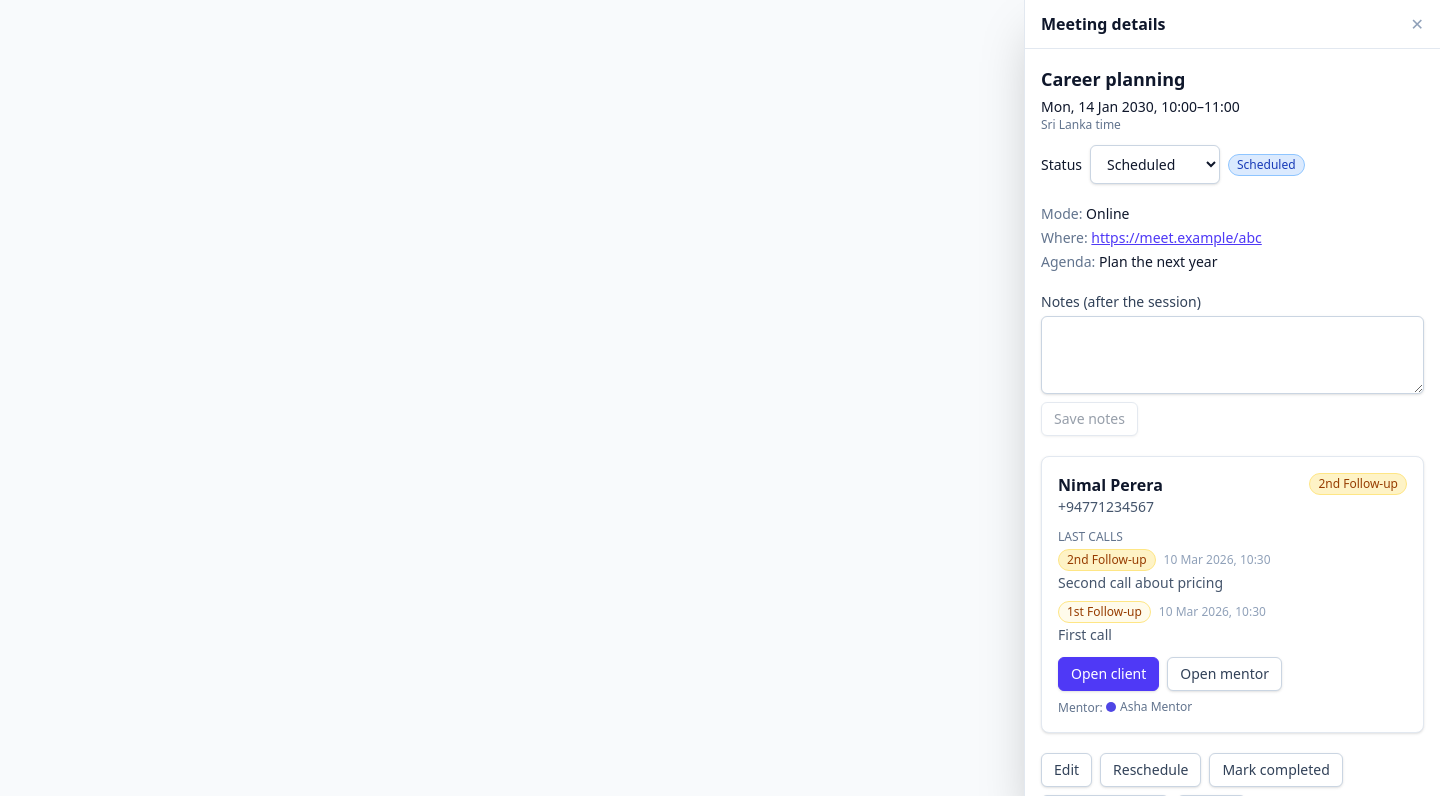
Test: Meeting details panel › Edit and Reschedule open the meeting form with the right title
The image size is (1440, 796).
Click the button "Edit" at (1067, 770), box x1=1041 y1=753 x2=1092 y2=787
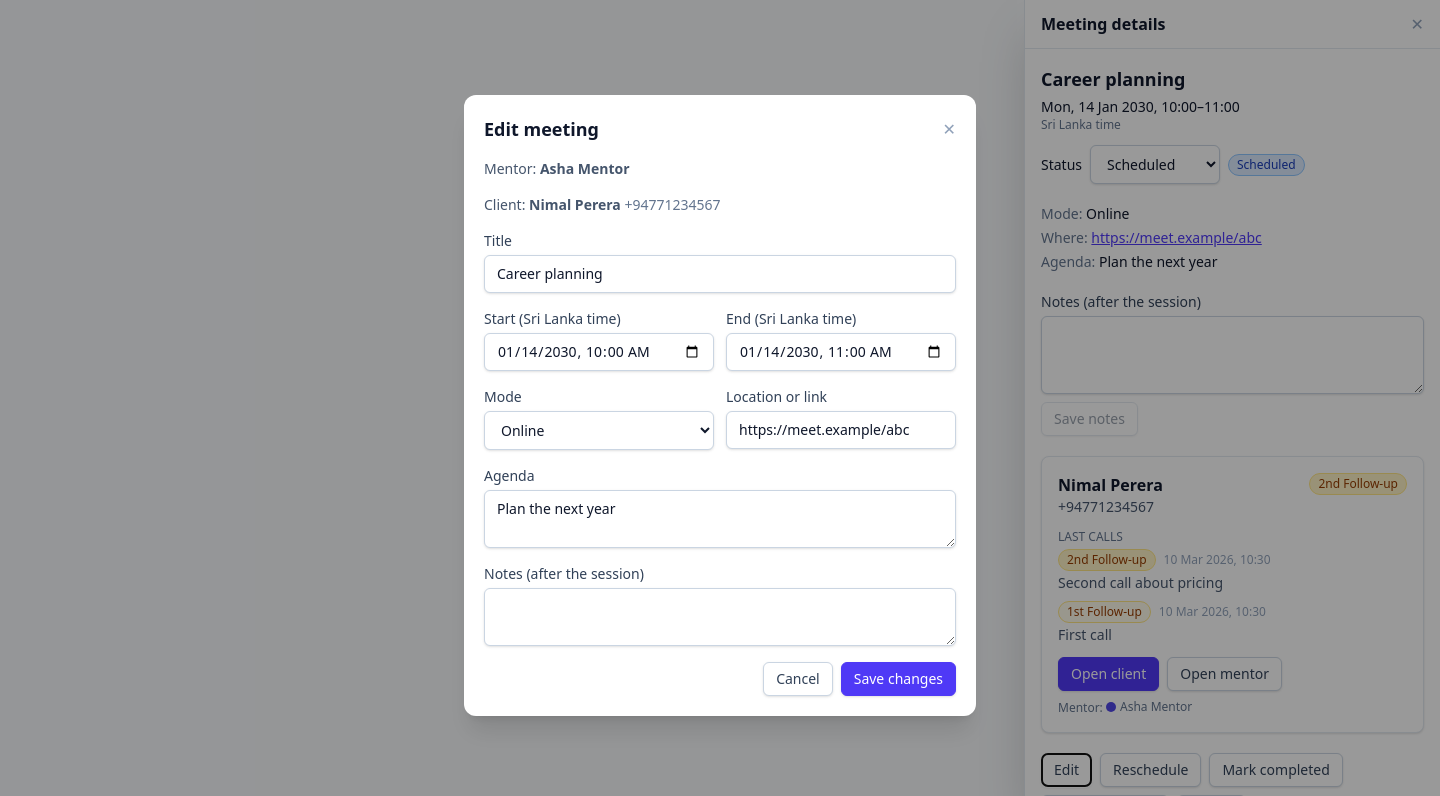
Expected: the dialog "Edit meeting" is shown, x1=464 y1=94 x2=976 y2=716
Click the button "Cancel" at (798, 678), box x1=763 y1=662 x2=833 y2=696
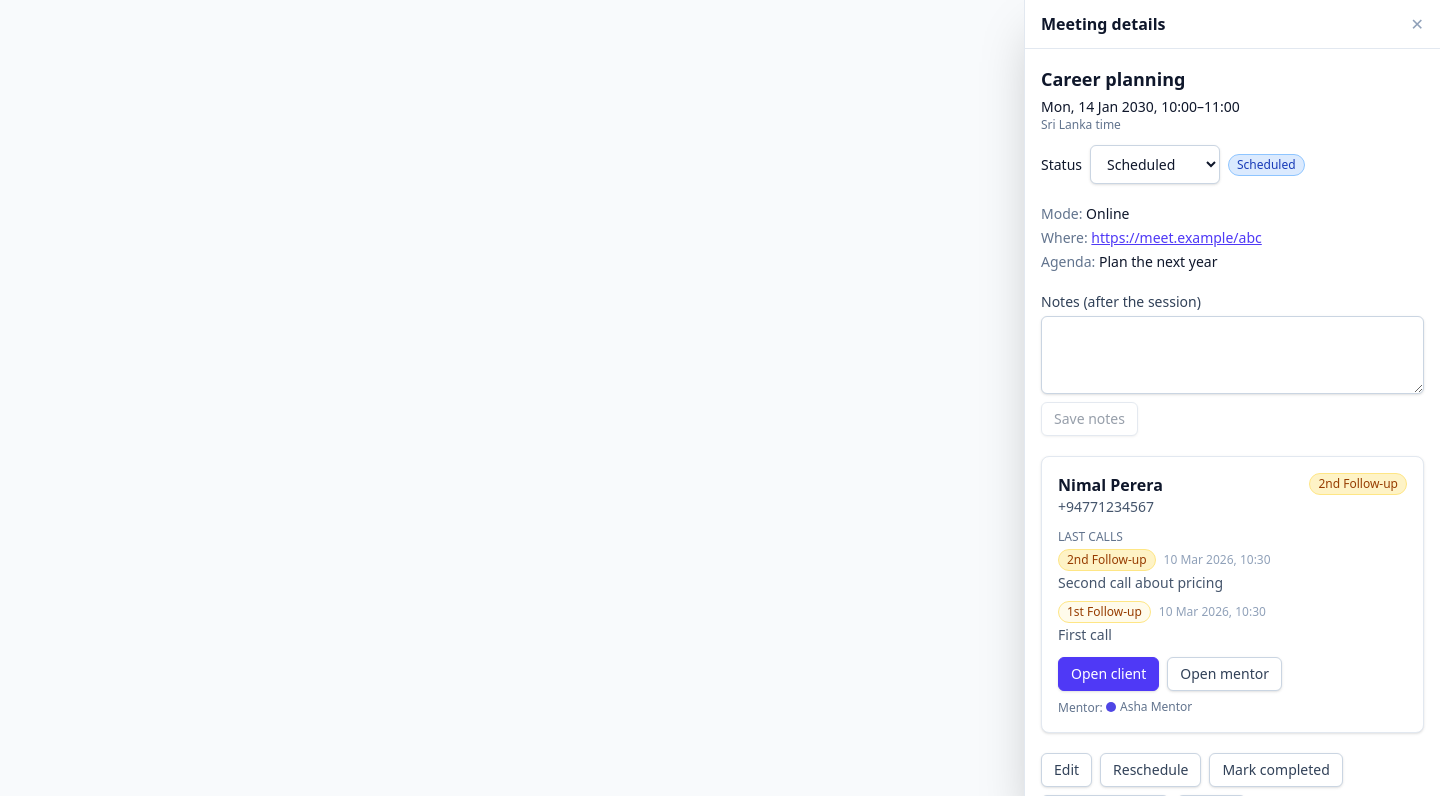
Click the button "Reschedule" at (1151, 770), box x1=1100 y1=753 x2=1202 y2=787
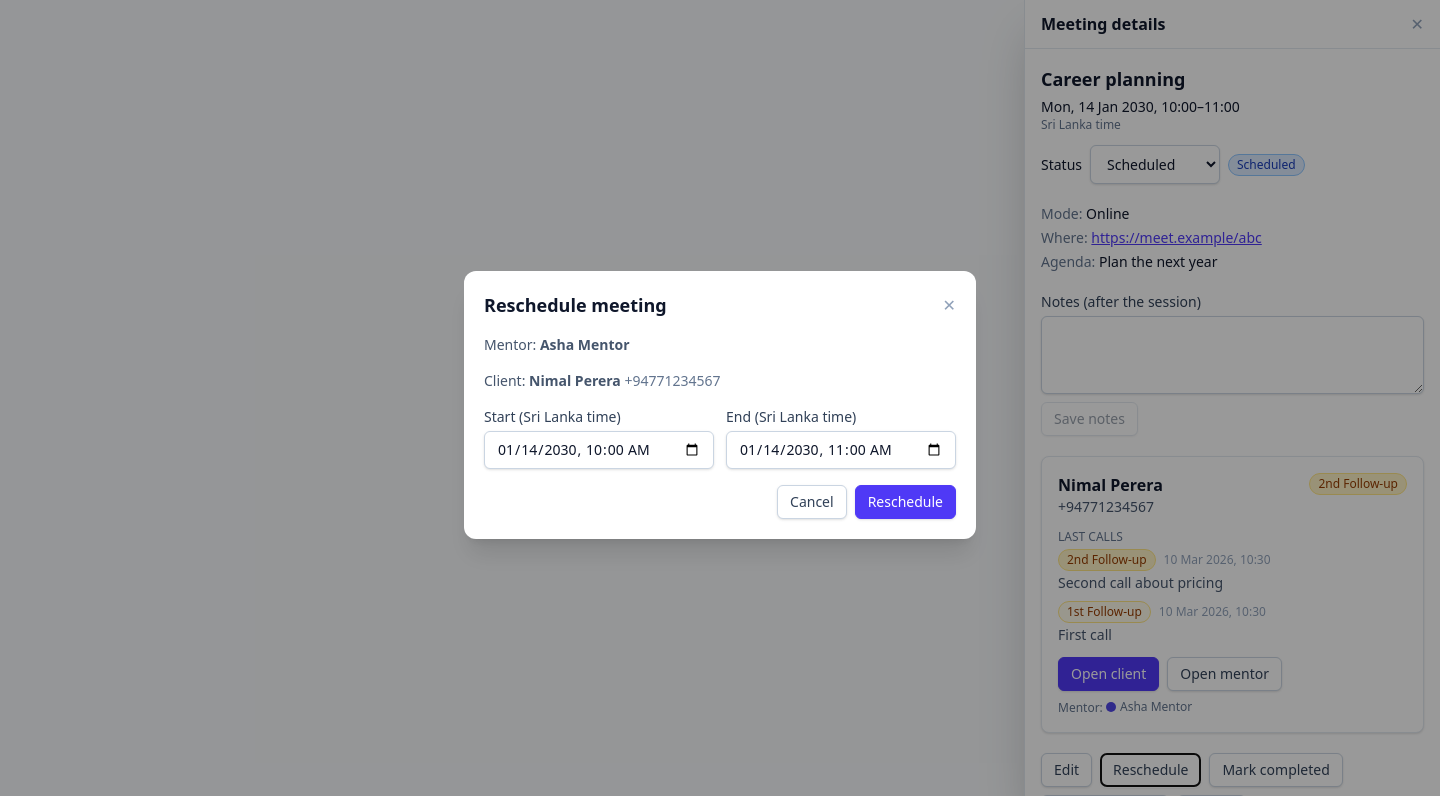
Expected: the dialog "Reschedule meeting" is shown, x1=464 y1=271 x2=976 y2=539
